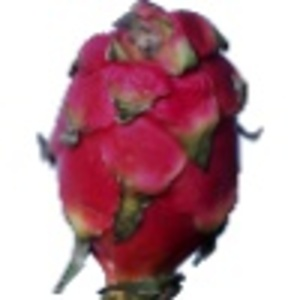pitaia: (36, 1, 263, 300)
